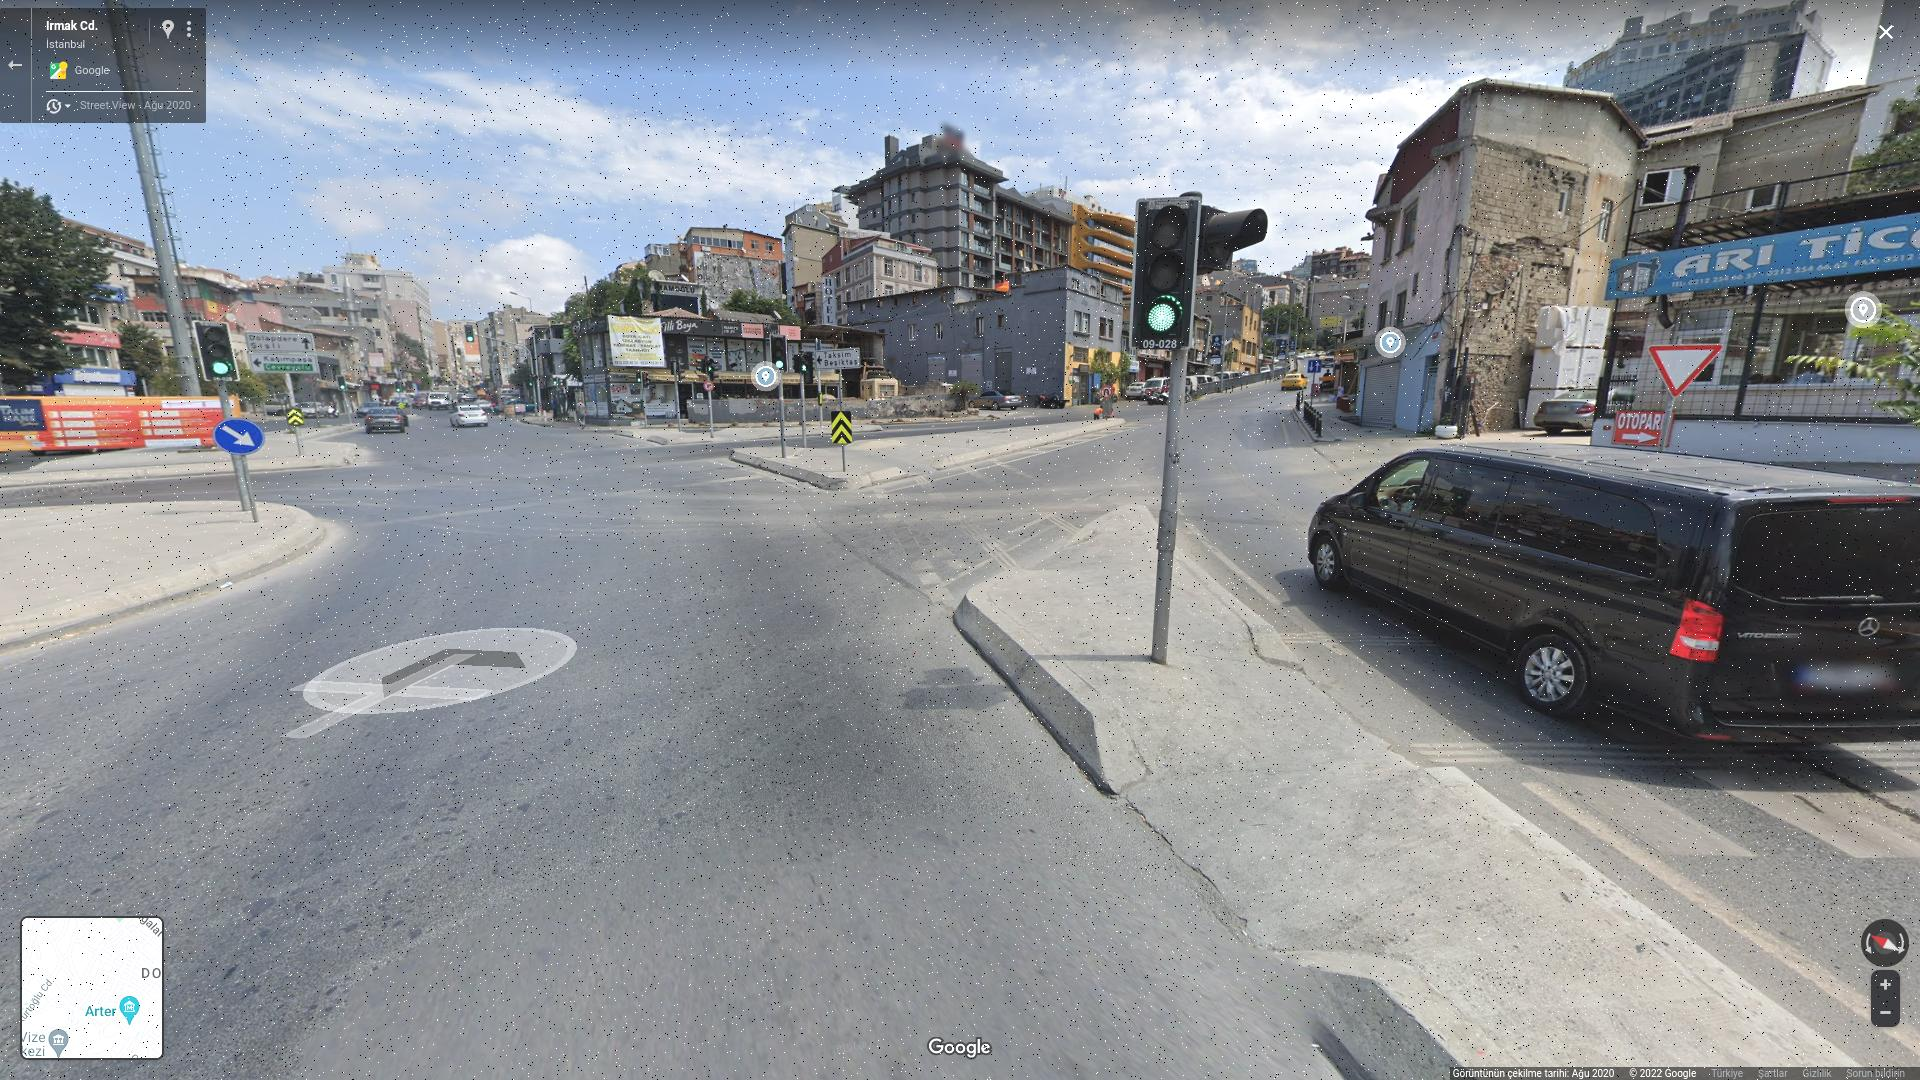greenlight: (1139, 195, 1189, 340)
